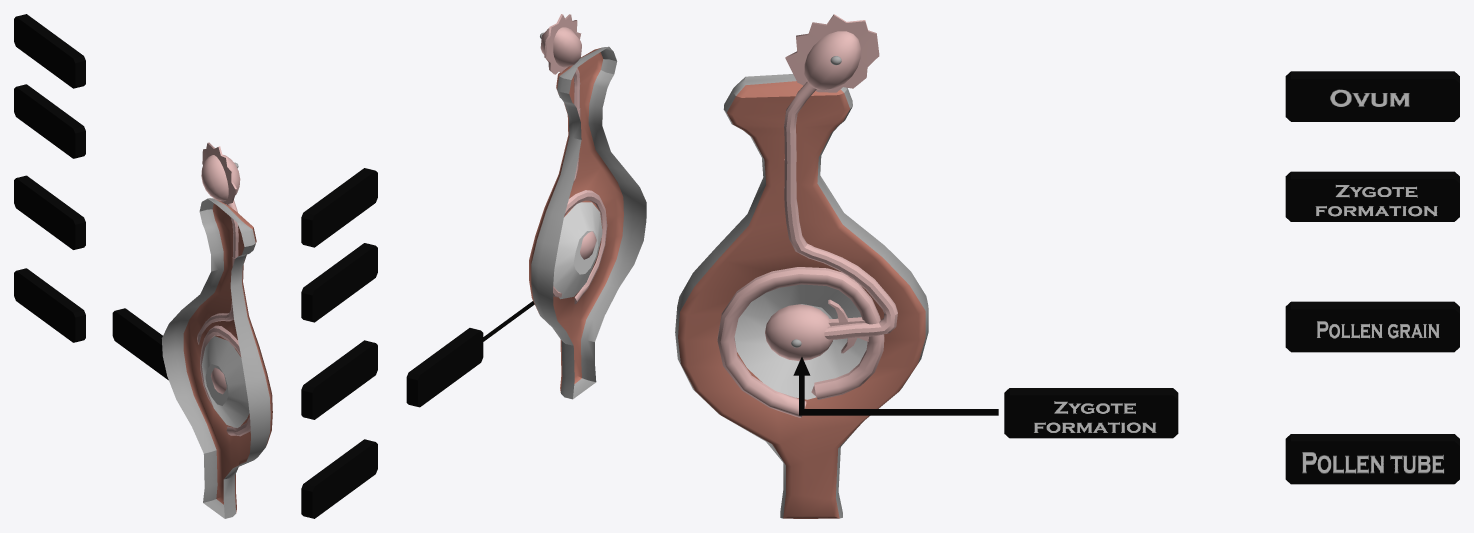
The model's file is Level_6_B.fbx.
The picture shows the model from 3 angles, left to right: view 1: azimuth 30°, elevation 25°; view 2: azimuth 150°, elevation 25°; view 3: azimuth 270°, elevation 25°; orthographic projection. The views are drawn at different scales.
Parts seen in each view (by area): view 1: Flower, pCube4 (×2), pCube3, pCube2, pCube5; view 2: Flower, pCube4 (×2), pCube3, pCube2, pCube5; view 3: Flower, pCube4 (×2), pCube2, pCube3, pCube5, polySurface7.
Part boxes in pixels (x1=…): Flower: x1=161, y1=142, x2=272, y2=518; pCube4 (×2): x1=14, y1=84, x2=168, y2=380; pCube3: x1=14, y1=268, x2=85, y2=342; pCube2: x1=14, y1=175, x2=85, y2=249; pCube5: x1=14, y1=14, x2=85, y2=88; Flower: x1=529, y1=14, x2=646, y2=399; pCube4 (×2): x1=301, y1=243, x2=483, y2=407; pCube3: x1=301, y1=439, x2=377, y2=518; pCube2: x1=301, y1=340, x2=377, y2=419; pCube5: x1=301, y1=168, x2=377, y2=247; Flower: x1=675, y1=14, x2=928, y2=518; pCube4 (×2): x1=1004, y1=171, x2=1459, y2=438; pCube2: x1=1285, y1=301, x2=1459, y2=352; pCube3: x1=1285, y1=434, x2=1459, y2=484; pCube5: x1=1285, y1=71, x2=1459, y2=121; polySurface7: x1=793, y1=357, x2=998, y2=415.
Size of the model in its own units: 17.59 by 119 by 167.
6 materials, 1 textured.
